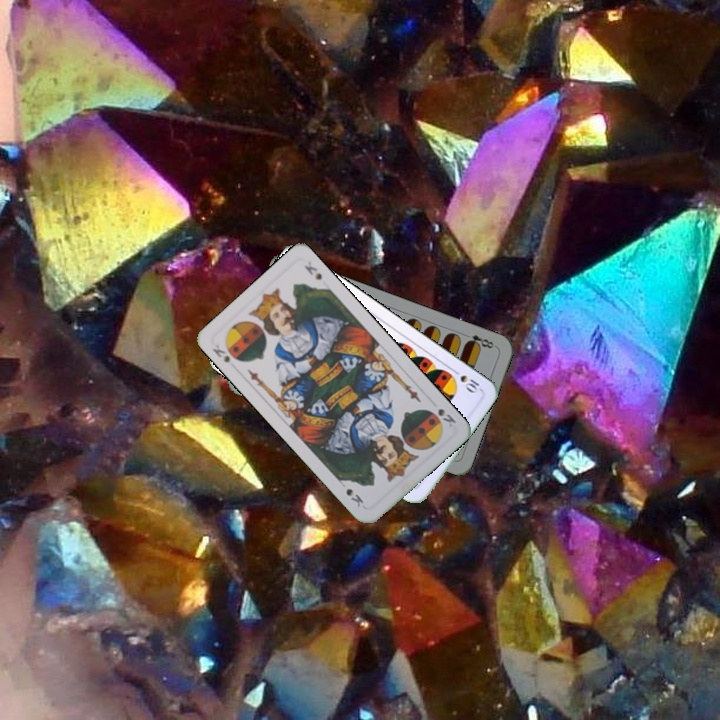E8: (460, 329, 499, 351)
S10: (448, 365, 483, 396)
SK: (208, 339, 233, 366), (434, 404, 459, 430)
